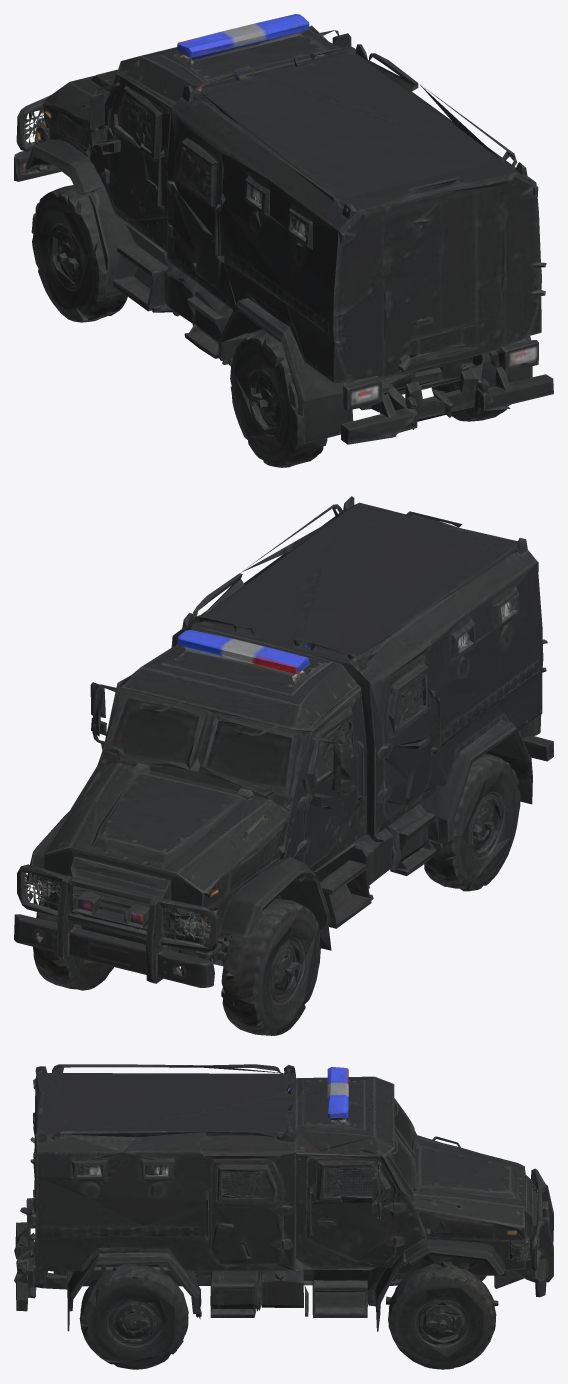
File: omon_swat_van_17k.glb
3 renders of one model, top to bottom at view 1: azimuth 30°, elevation 25°; view 2: azimuth 150°, elevation 25°; view 3: azimuth 270°, elevation 25°, orthographic. The views are drawn at different scales.
Parts seen in each view (by area): view 1: output_unwrapped; view 2: output_unwrapped; view 3: output_unwrapped.
Part boxes in pixels (left/top/right/bottom): output_unwrapped: left=14, top=14, right=553, bottom=467; output_unwrapped: left=14, top=496, right=553, bottom=1035; output_unwrapped: left=14, top=1064, right=553, bottom=1369.
Bounding box in the file's own units: 2.68 × 3.05 × 6.2.
1 material, 1 textured.
